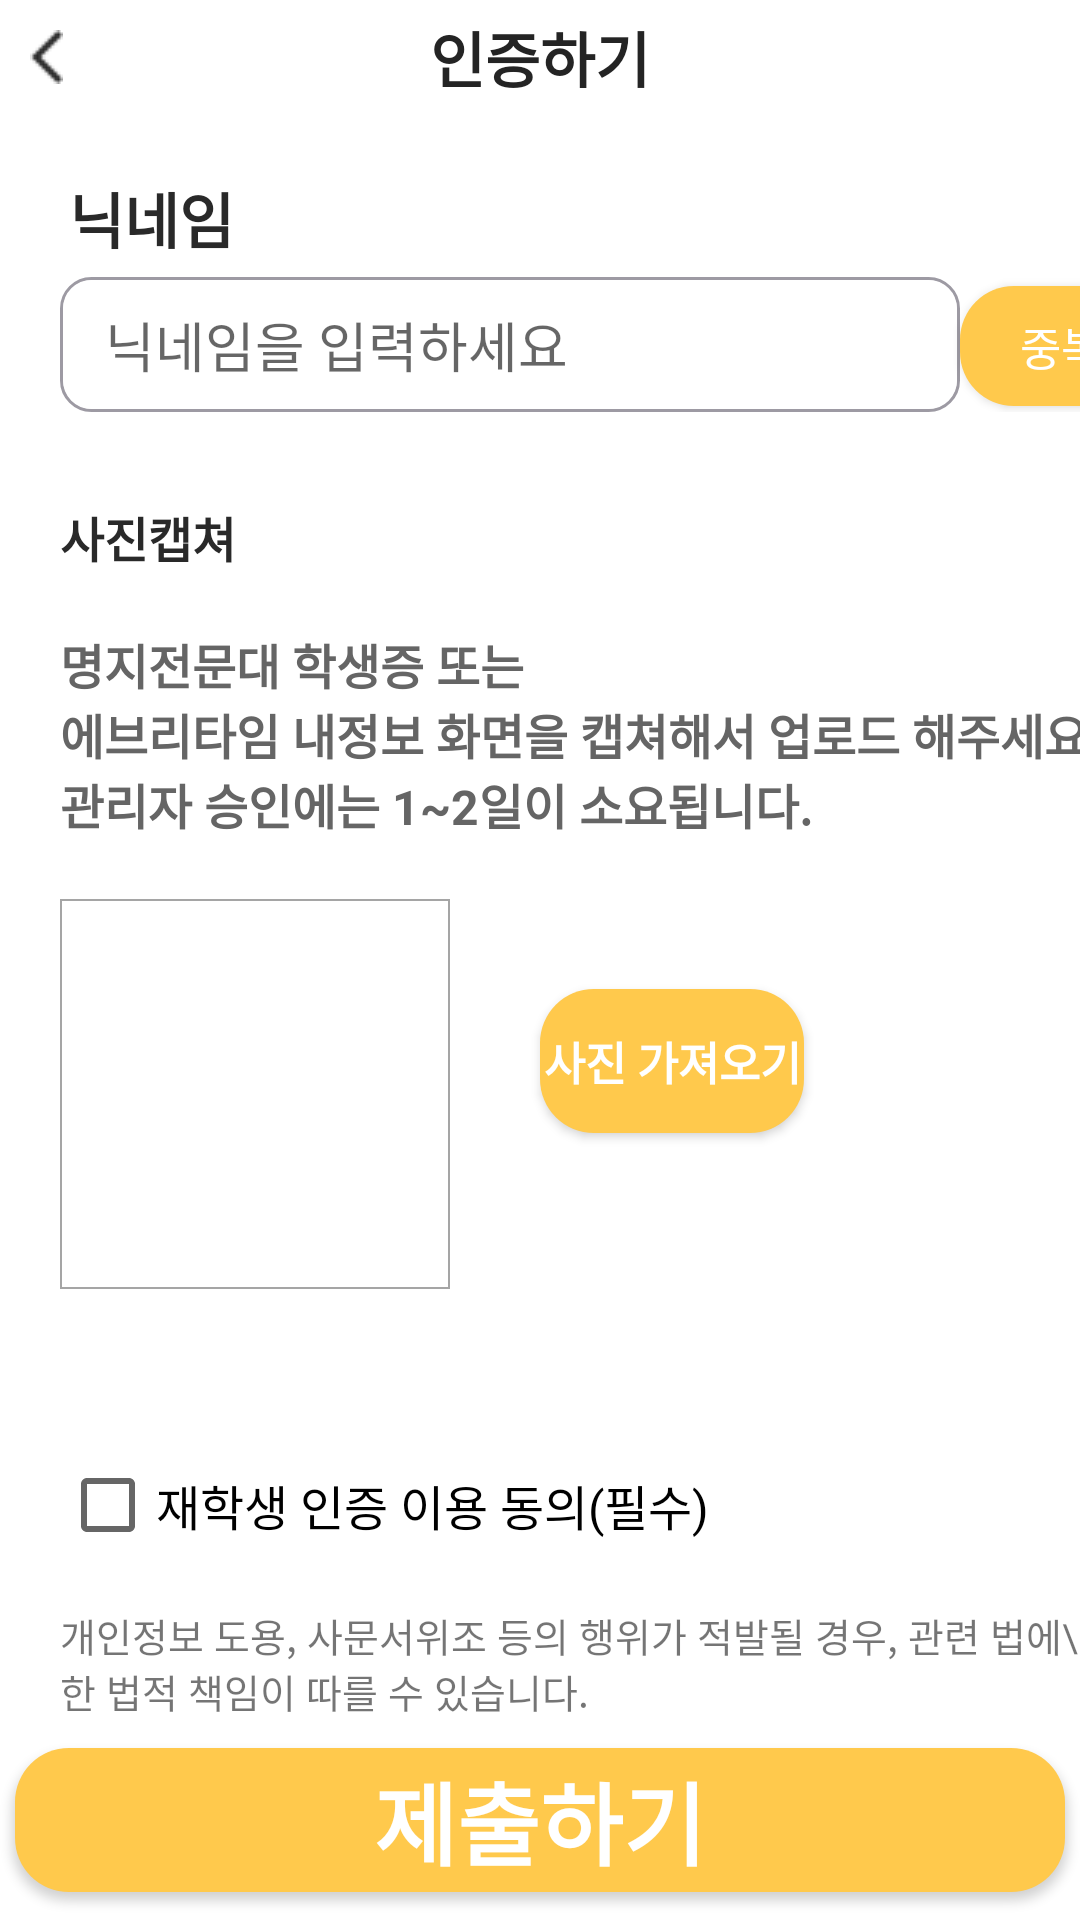

Where to tap for icons on this 1080px x 1920px app screen, as (x=x, y=y):
return cmong: (x=46, y=57)
